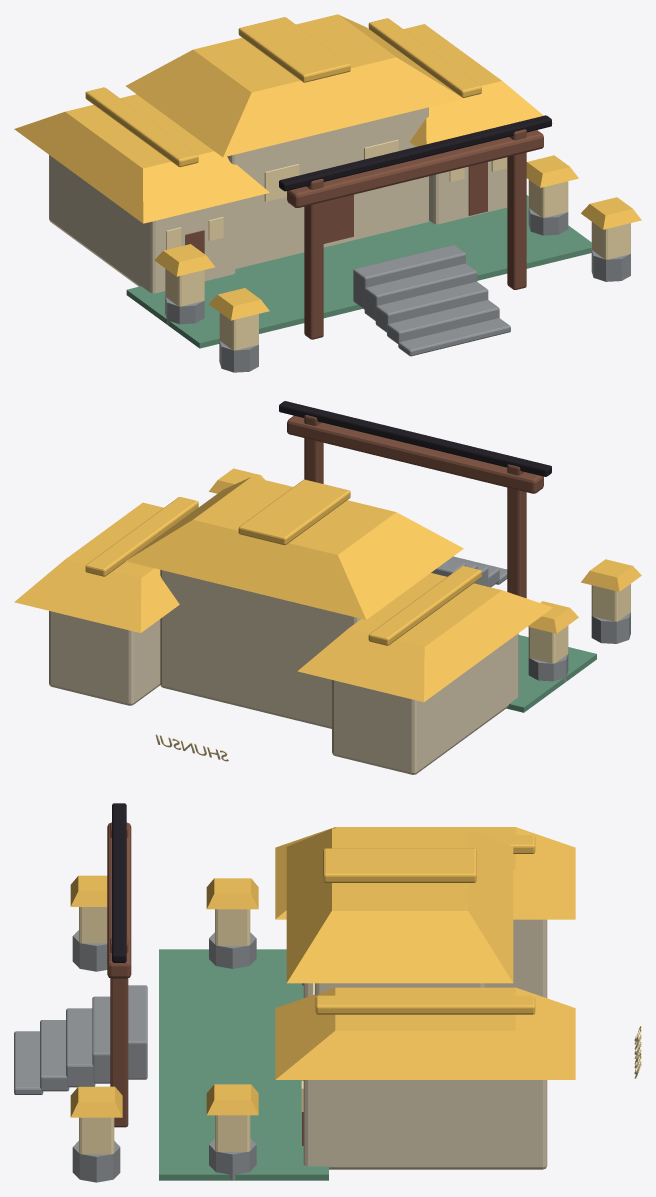
Rendered from 12_shunsui.glb.
3 views of the same model, one above another, from view 1: azimuth 30°, elevation 25°; view 2: azimuth 150°, elevation 25°; view 3: azimuth 270°, elevation 25° (orthographic). The views are drawn at different scales.
Visible parts, largest first — view 1: main_body.002; view 2: main_body.002; view 3: main_body.002.
Part boxes in pixels (x1=…): main_body.002: x1=14, y1=14, x2=641, y2=372; main_body.002: x1=14, y1=401, x2=641, y2=774; main_body.002: x1=14, y1=803, x2=575, y2=1182.
Bounding box in the file's own units: 9.72 × 4.03 × 11.08.
